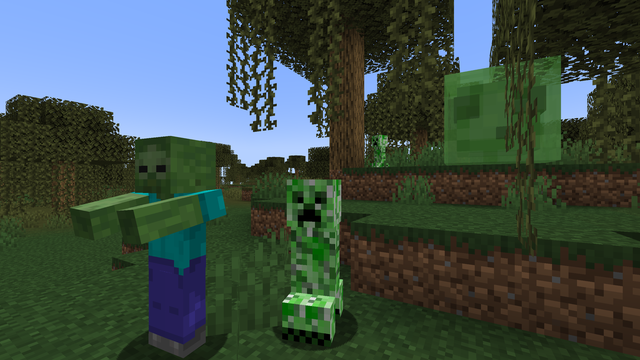creepers: (277, 171, 349, 345), (371, 132, 387, 162)
slimes: (441, 60, 563, 167)
zombies: (127, 140, 222, 357)
